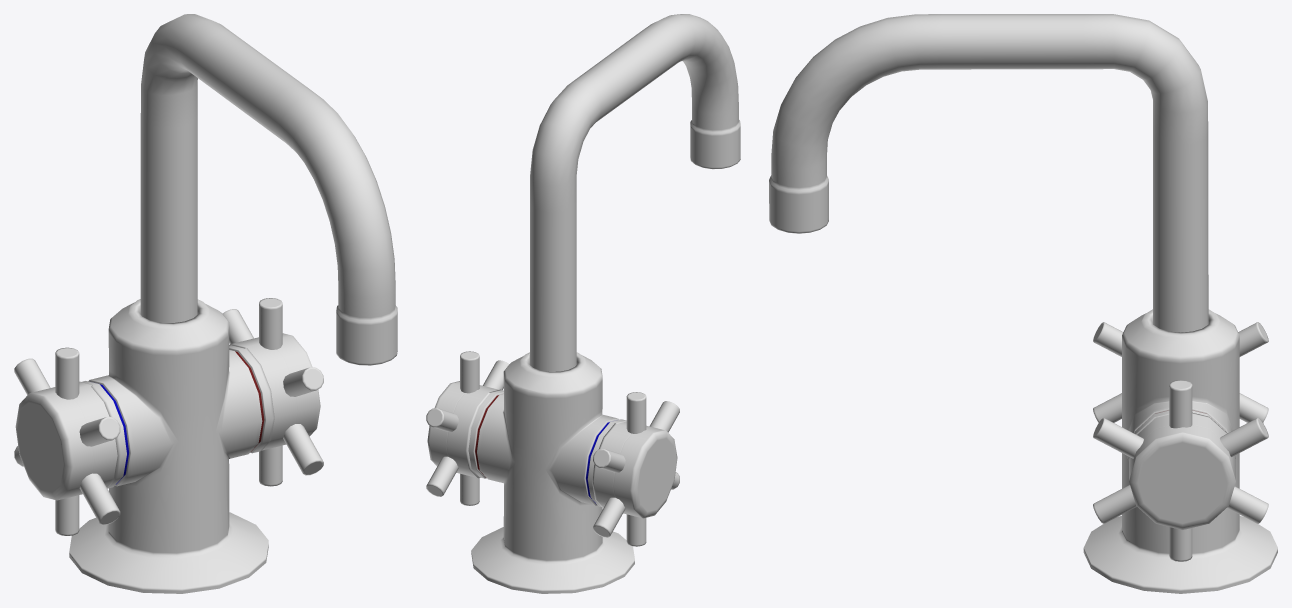
File: bathtubFaucet_Roco.fbx
3 renders of one model, left to right at view 1: azimuth 30°, elevation 25°; view 2: azimuth 150°, elevation 25°; view 3: azimuth 270°, elevation 25°, orthographic. The views are drawn at different scales.
Parts seen in each view (by area): view 1: geo_bathtubFaucet_Roco_LOD0; view 2: geo_bathtubFaucet_Roco_LOD0; view 3: geo_bathtubFaucet_Roco_LOD0.
Boxes of the visible parts, x1,y1,x2,y2 form: geo_bathtubFaucet_Roco_LOD0: [14, 14, 397, 593]; geo_bathtubFaucet_Roco_LOD0: [426, 14, 740, 593]; geo_bathtubFaucet_Roco_LOD0: [769, 14, 1277, 593].
Size of the model in its own units: 0.1175 by 0.2448 by 0.2104.
